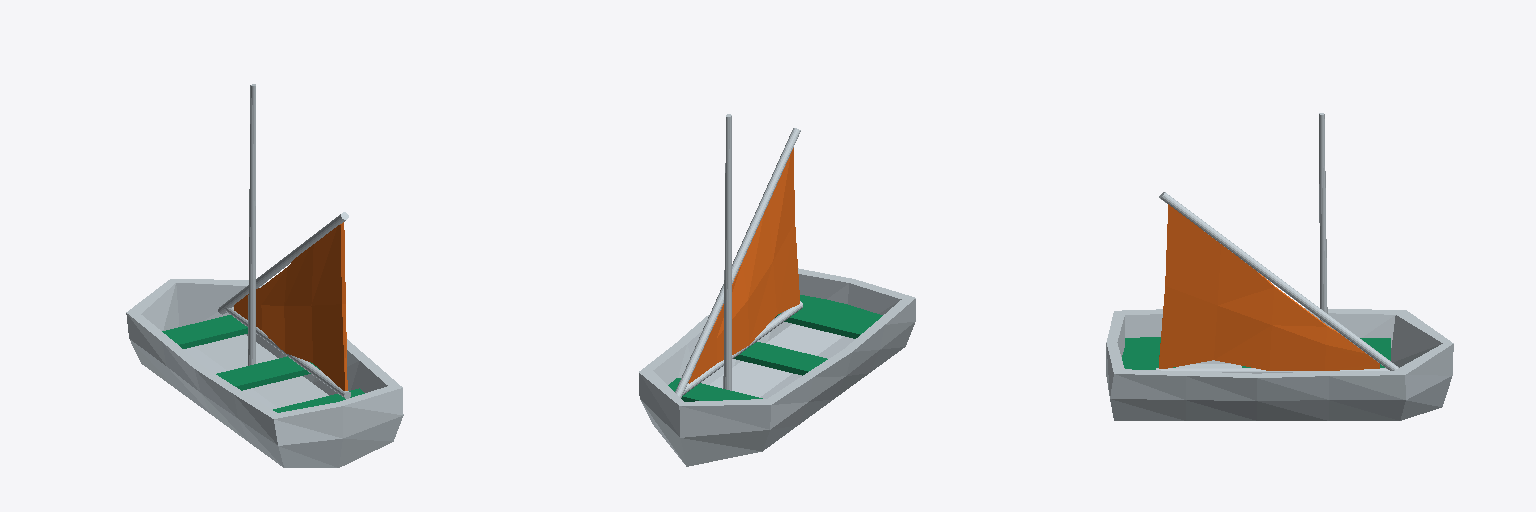
File: boot2++.obj
The picture shows the model from 3 angles: view 1: azimuth 30°, elevation 25°; view 2: azimuth 150°, elevation 25°; view 3: azimuth 270°, elevation 25°; orthographic projection.
Visible parts, largest first — view 1: Cube_Cube.001; view 2: Cube_Cube.001; view 3: Cube_Cube.001.
Part boxes in pixels (x1,y1,x2,y2): Cube_Cube.001: (126, 84, 403, 467); Cube_Cube.001: (639, 114, 915, 466); Cube_Cube.001: (1106, 113, 1453, 420).
Size of the model in its own units: 2.83 by 5.6 by 5.83.